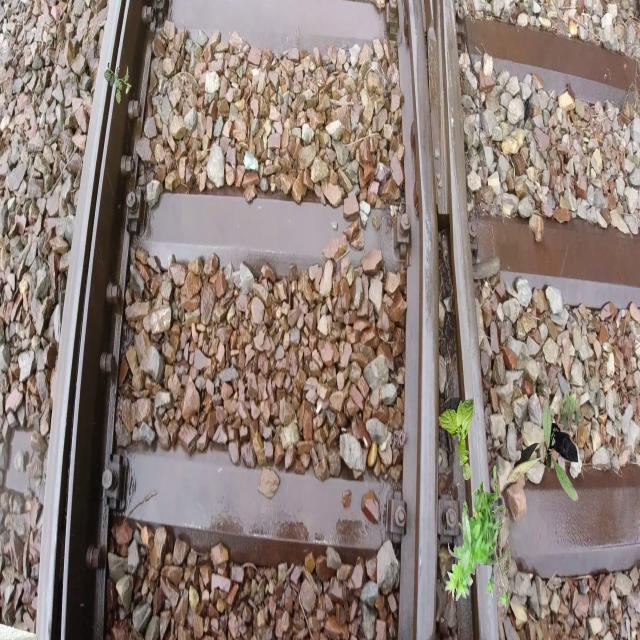Plant: (445, 465, 510, 608), (507, 402, 578, 502), (438, 397, 474, 480), (104, 63, 132, 104), (558, 389, 584, 432)
